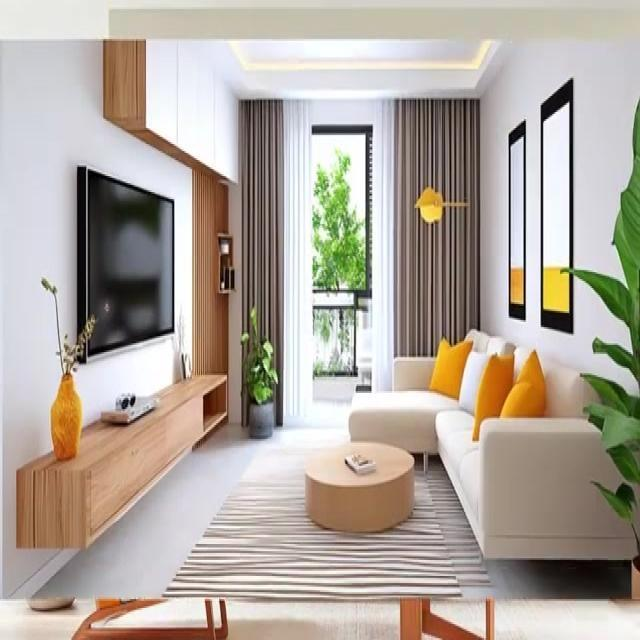obstacle: (348, 325, 639, 567), (15, 372, 227, 550), (303, 439, 414, 532)
